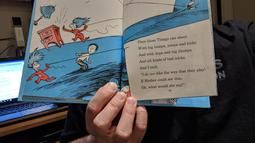text block: (133, 34, 210, 91)
